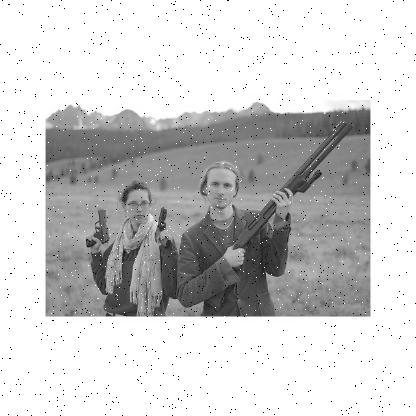gun: (85, 206, 109, 245), (151, 204, 169, 248)
